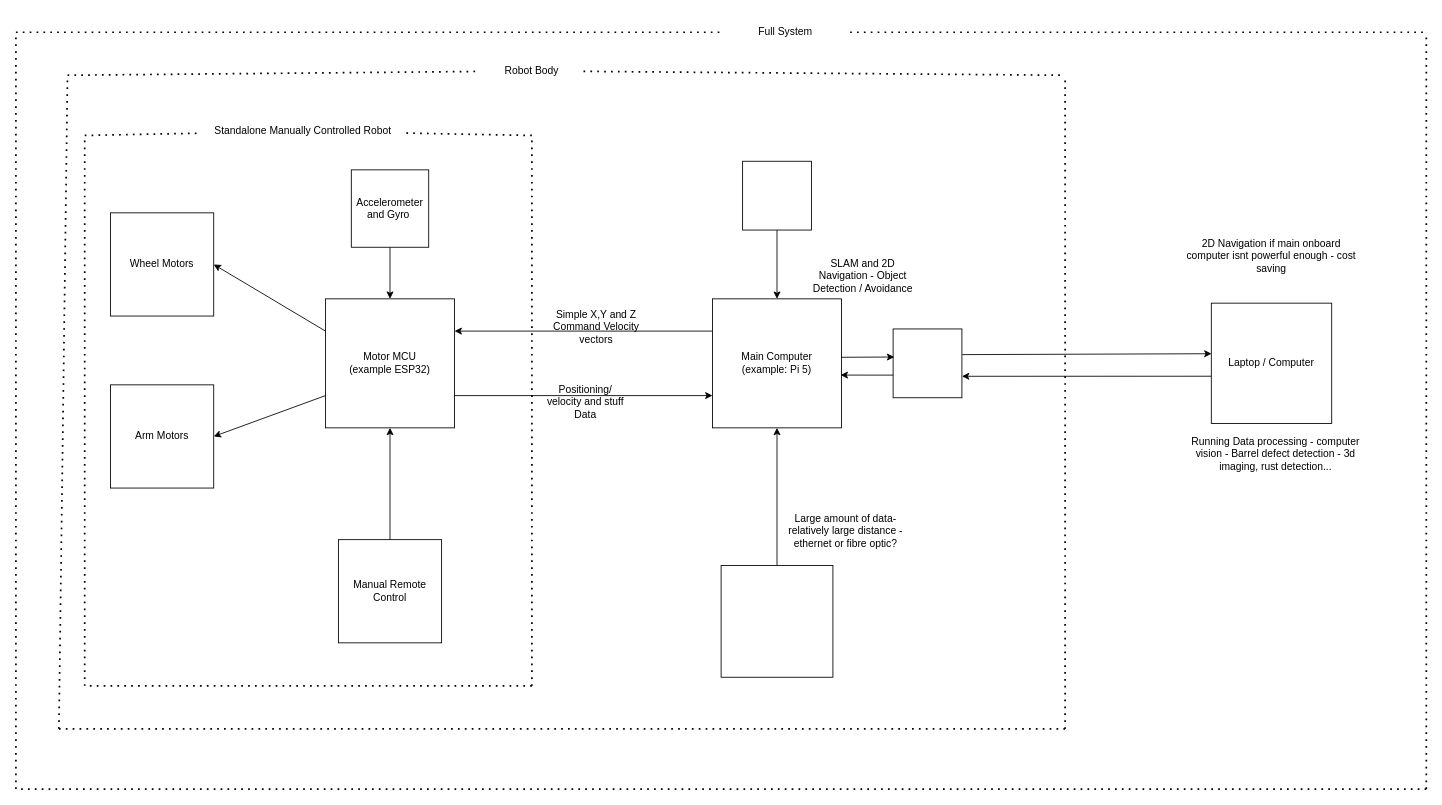
The diagram is 1442 pixels wide and 805 high, and some of its shapes have lost their labels. The box of each missing label's shape, as (x1, y1, x2, y2) in pixels:
Arm Sensor Suite: (720, 565, 833, 677)
Main Body ToF Sensors: (742, 160, 811, 230)
Wifi 5GHz Uplink: (892, 328, 962, 398)
